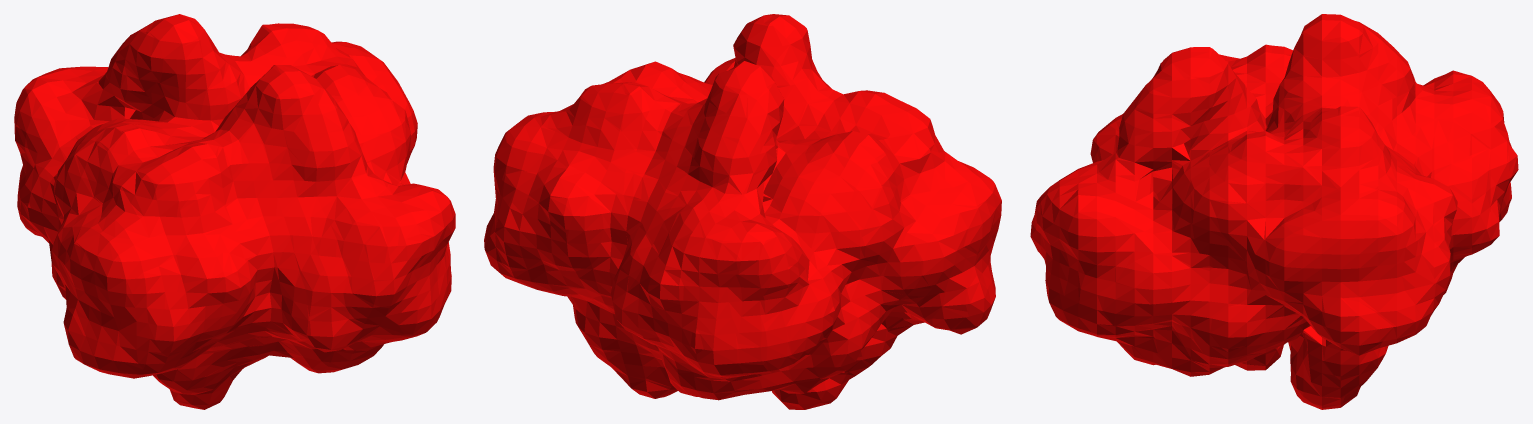
The model's file is fabG_coarse.dae.
The picture shows the model from 3 angles, left to right: view 1: azimuth 30°, elevation 25°; view 2: azimuth 150°, elevation 25°; view 3: azimuth 270°, elevation 25°; orthographic projection. The views are drawn at different scales.
Parts seen in each view (by area): view 1: fabG; view 2: fabG; view 3: fabG.
Part boxes in pixels (bbox=[...]): fabG: bbox=[14, 14, 455, 409]; fabG: bbox=[484, 14, 1001, 409]; fabG: bbox=[1030, 14, 1518, 409].
Bounding box in the file's own units: 85.05 × 71.61 × 88.43.
